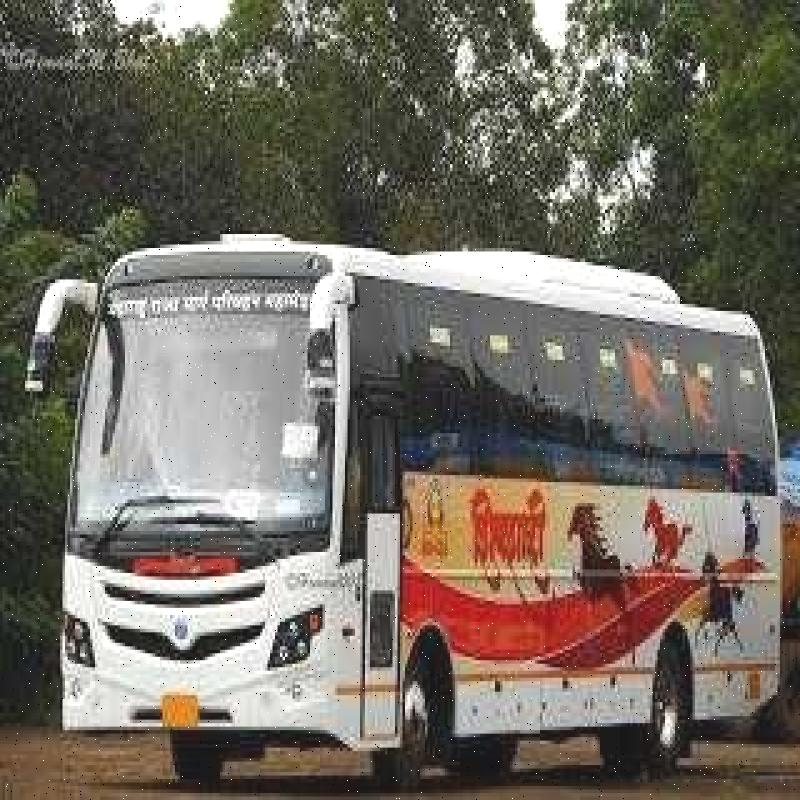bus: (14, 179, 791, 776)
